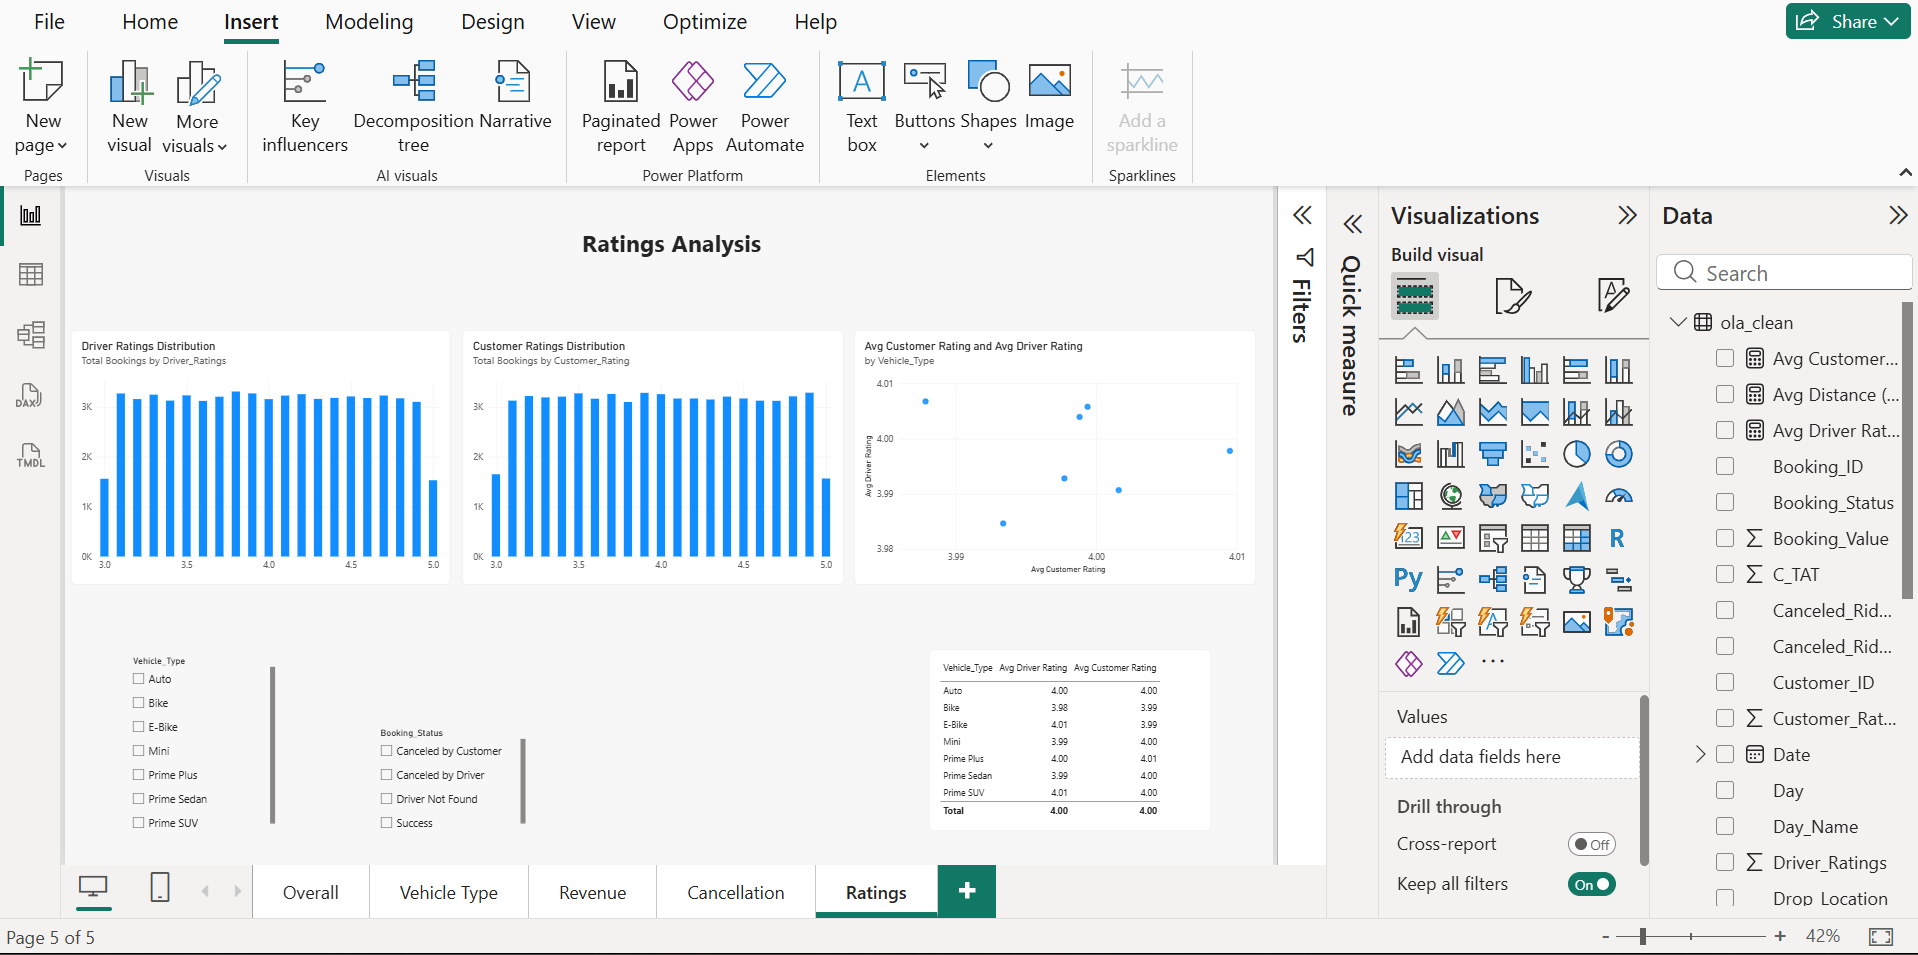

Layout of this report page (visuals, bound fields, positions):
{"tool":"powerbi","page":{"name":"Ratings","canvas":[1920,1080],"ordinal":4},"visuals":[{"type":"slicer","fields":{"Values":["ola_clean.Vehicle_Type"]},"box":[100.2,746.8,233.8,279.2],"z":0},{"type":"slicer","fields":{"Values":["ola_clean.Booking_Status"]},"box":[493.9,861.3,238.6,164.6],"z":1000},{"type":"tableEx","fields":{"Values":["ola_clean.Vehicle_Type","ola_clean.Avg Driver Rating","ola_clean.Avg Customer Rating"]},"box":[1374.3,737.2,448.6,288.7],"z":2000},{"type":"clusteredColumnChart","title":"Driver Ratings Distribution","fields":{"Category":["ola_clean.Driver_Ratings"],"Y":["ola_clean.Total Bookings"]},"box":[9.5,229,603.6,405.6],"z":3000},{"type":"clusteredColumnChart","title":"Customer Ratings Distribution","fields":{"Category":["ola_clean.Customer_Rating"],"Y":["ola_clean.Total Bookings"]},"box":[632.3,229,606,405.6],"z":4000},{"type":"scatterChart","fields":{"Category":["ola_clean.Vehicle_Type"],"X":["ola_clean.Avg Customer Rating"],"Y":["ola_clean.Avg Driver Rating"]},"box":[1255,229,639.4,405.6],"z":5000},{"type":"textbox","box":[9.5,64.4,1911.1,136],"z":6000}]}

Visuals, with their boxes on the page's 1920x1080 design canvas (x1, y1, x2, y2). These are canvas units, not pixel positions in the 1918x955 screenshot, which may show the page scaled, cropped or inside an application window:
slicer - ola_clean.Vehicle_Type: left=100, top=747, right=334, bottom=1026
slicer - ola_clean.Booking_Status: left=494, top=861, right=732, bottom=1026
tableEx - ola_clean.Vehicle_Type x ola_clean.Avg Driver Rating: left=1374, top=737, right=1823, bottom=1026
"Driver Ratings Distribution" clusteredColumnChart: left=10, top=229, right=613, bottom=635
"Customer Ratings Distribution" clusteredColumnChart: left=632, top=229, right=1238, bottom=635
scatterChart - ola_clean.Vehicle_Type x ola_clean.Avg Customer Rating: left=1255, top=229, right=1894, bottom=635
textbox: left=10, top=64, right=1921, bottom=200
